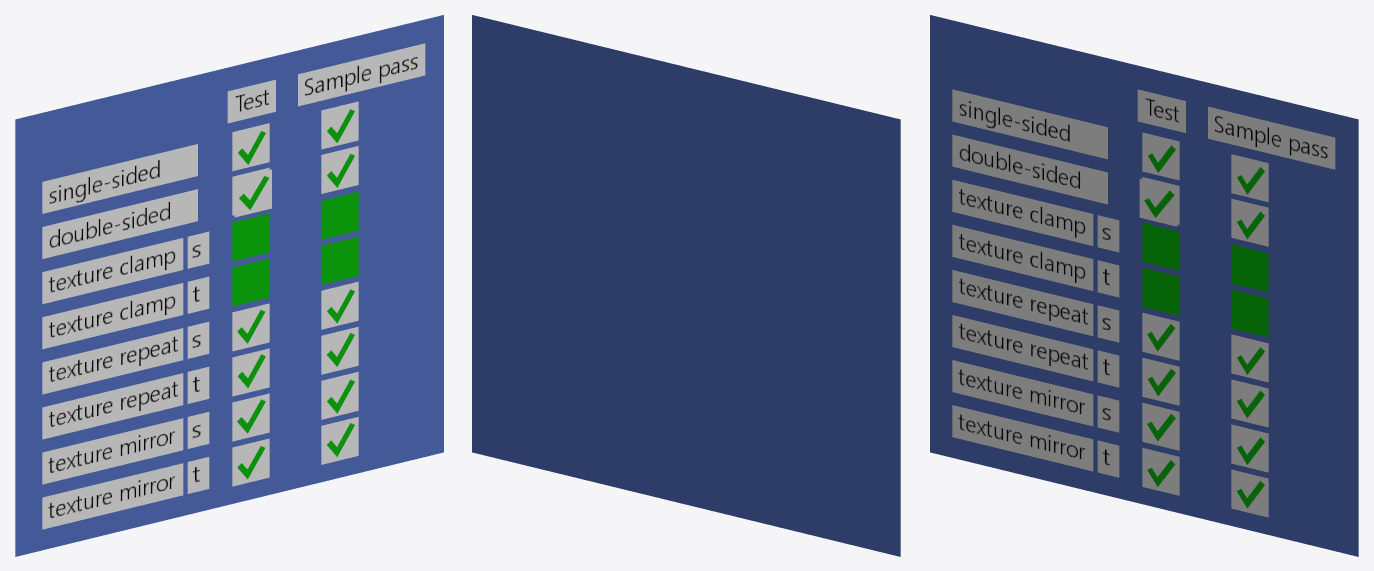
Rendered from TextureSettingsTest.gltf.
3 views of the same model, side by side, from view 1: azimuth 30°, elevation 25°; view 2: azimuth 150°, elevation 25°; view 3: azimuth 330°, elevation 25° (orthographic).
Visible parts, largest first — view 1: BackgroundMesh, LabelMesh, DoubleSidedMesh, TextureMirrorMeshS, TextureRepeatMeshT, TextureClampMeshT, TextureRepeatMeshS, TextureMirrorMeshT, TextureClampMeshS, SingleSidedMesh; view 2: BackgroundMesh; view 3: BackgroundMesh, LabelMesh, DoubleSidedMesh, TextureRepeatMeshT, TextureClampMeshT, TextureRepeatMeshS, TextureClampMeshS, SingleSidedMesh, TextureMirrorMeshS, TextureMirrorMeshT.
Boxes of the visible parts, x1=… form: BackgroundMesh: x1=15, y1=15, x2=443, y2=556; LabelMesh: x1=42, y1=43, x2=425, y2=529; DoubleSidedMesh: x1=232, y1=146, x2=358, y2=217; TextureMirrorMeshS: x1=232, y1=371, x2=358, y2=441; TextureRepeatMeshT: x1=232, y1=326, x2=358, y2=396; TextureClampMeshT: x1=232, y1=236, x2=358, y2=306; TextureRepeatMeshS: x1=232, y1=281, x2=358, y2=351; TextureMirrorMeshT: x1=232, y1=417, x2=358, y2=486; TextureClampMeshS: x1=232, y1=191, x2=358, y2=261; SingleSidedMesh: x1=232, y1=101, x2=358, y2=171; BackgroundMesh: x1=472, y1=15, x2=900, y2=556; BackgroundMesh: x1=930, y1=15, x2=1358, y2=556; LabelMesh: x1=952, y1=89, x2=1335, y2=477; DoubleSidedMesh: x1=1139, y1=177, x2=1268, y2=246; TextureRepeatMeshT: x1=1142, y1=357, x2=1268, y2=427; TextureClampMeshT: x1=1142, y1=267, x2=1268, y2=337; TextureRepeatMeshS: x1=1142, y1=312, x2=1268, y2=382; TextureClampMeshS: x1=1142, y1=222, x2=1268, y2=292; SingleSidedMesh: x1=1142, y1=132, x2=1268, y2=202; TextureMirrorMeshS: x1=1142, y1=402, x2=1268, y2=472; TextureMirrorMeshT: x1=1142, y1=448, x2=1268, y2=517.
Size of the model in its own units: 10.32 by 10.07 by 0.25.
10 materials, 9 textured.
